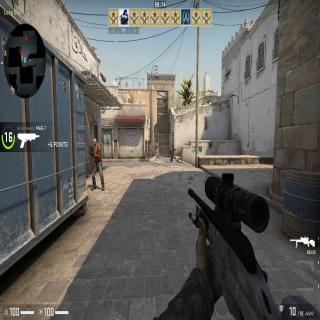T-Body: (90, 137, 104, 185), (170, 144, 174, 160)
T-Head: (93, 137, 97, 146), (172, 144, 174, 148)
